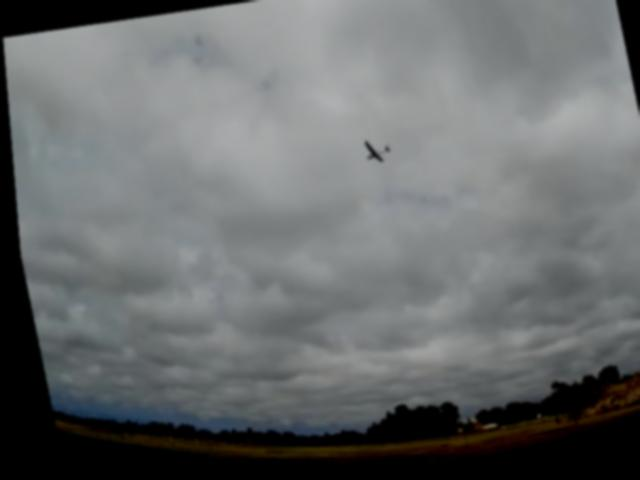uav: (351, 132, 397, 175)
